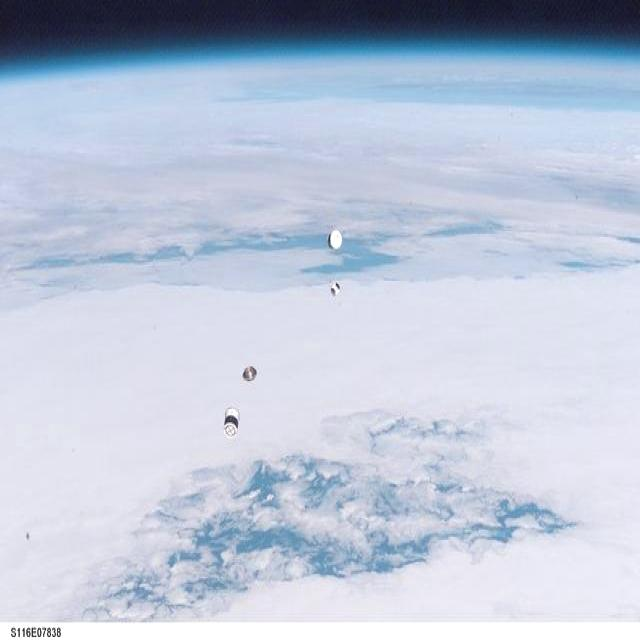satellite: (224, 406, 240, 439), (241, 364, 258, 382), (328, 230, 342, 250), (330, 283, 341, 295)
